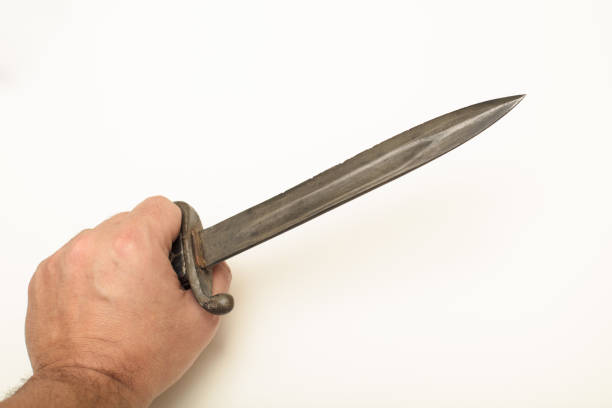knife: (167, 93, 532, 317)
